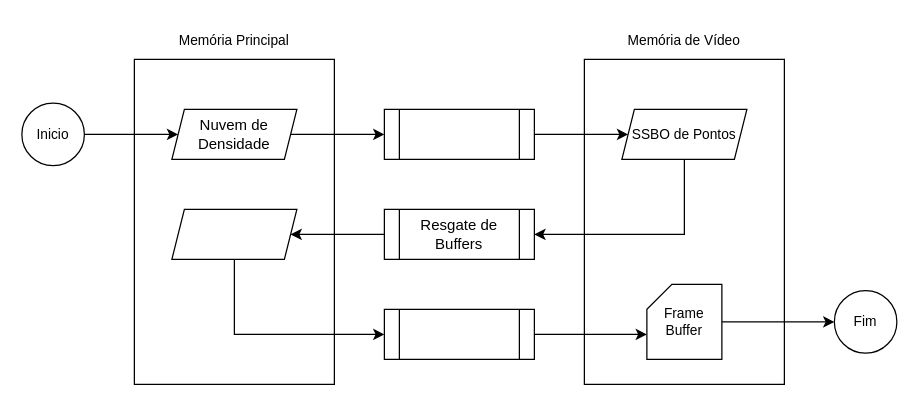
This 919x406 diagram has some shape labels left out. The shapes that lost their labels are listed below. From the top down, each one's centre as x and y in pixels, then its label:
the point at 458,133: Despache de Compute Shader
the point at 234,233: Index e Vertex Buffers
the point at 458,333: Execução Esteira VTGs
